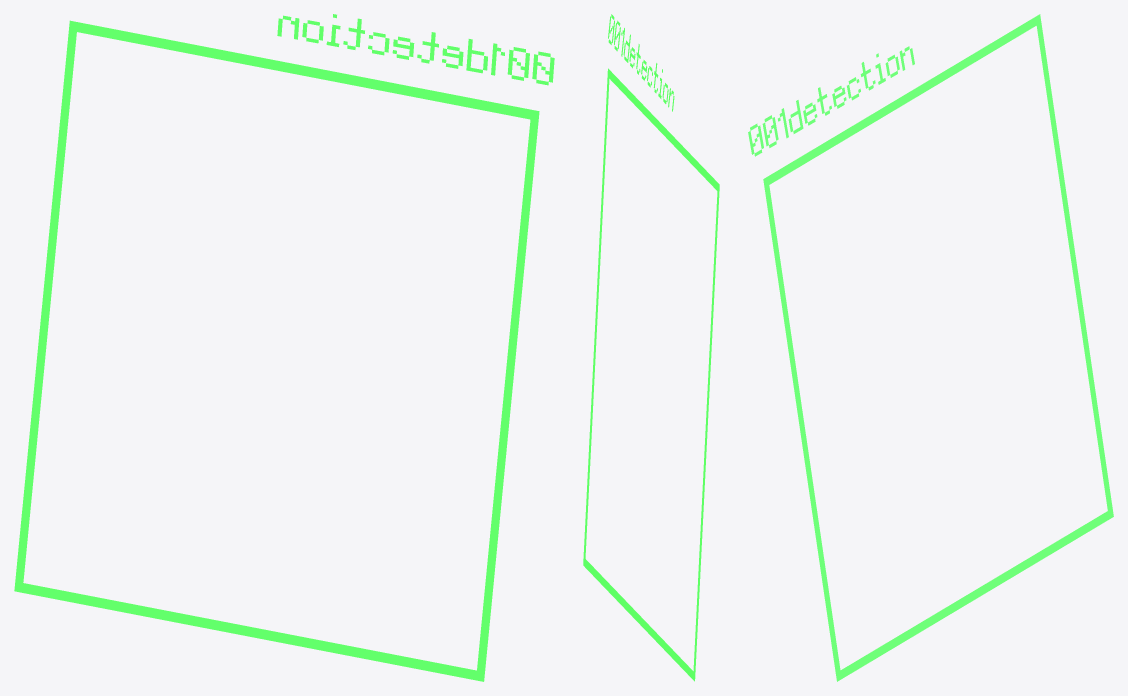
File: 001detection.glb
3 renders of one model, left to right at view 1: azimuth 30°, elevation 25°; view 2: azimuth 150°, elevation 25°; view 3: azimuth 270°, elevation 25°, orthographic. The views are drawn at different scales.
Visible parts, largest first — view 1: Detection01, Text; view 2: Detection01, Text; view 3: Detection01, Text.
Boxes of the visible parts, bbox=[...] form: Detection01: bbox=[14, 20, 539, 681]; Text: bbox=[277, 14, 554, 85]; Detection01: bbox=[583, 68, 719, 681]; Text: bbox=[608, 14, 674, 111]; Detection01: bbox=[763, 14, 1113, 681]; Text: bbox=[748, 46, 914, 156].
Bounding box in the file's own units: 0.3245 × 0.65 × 0.3739.
